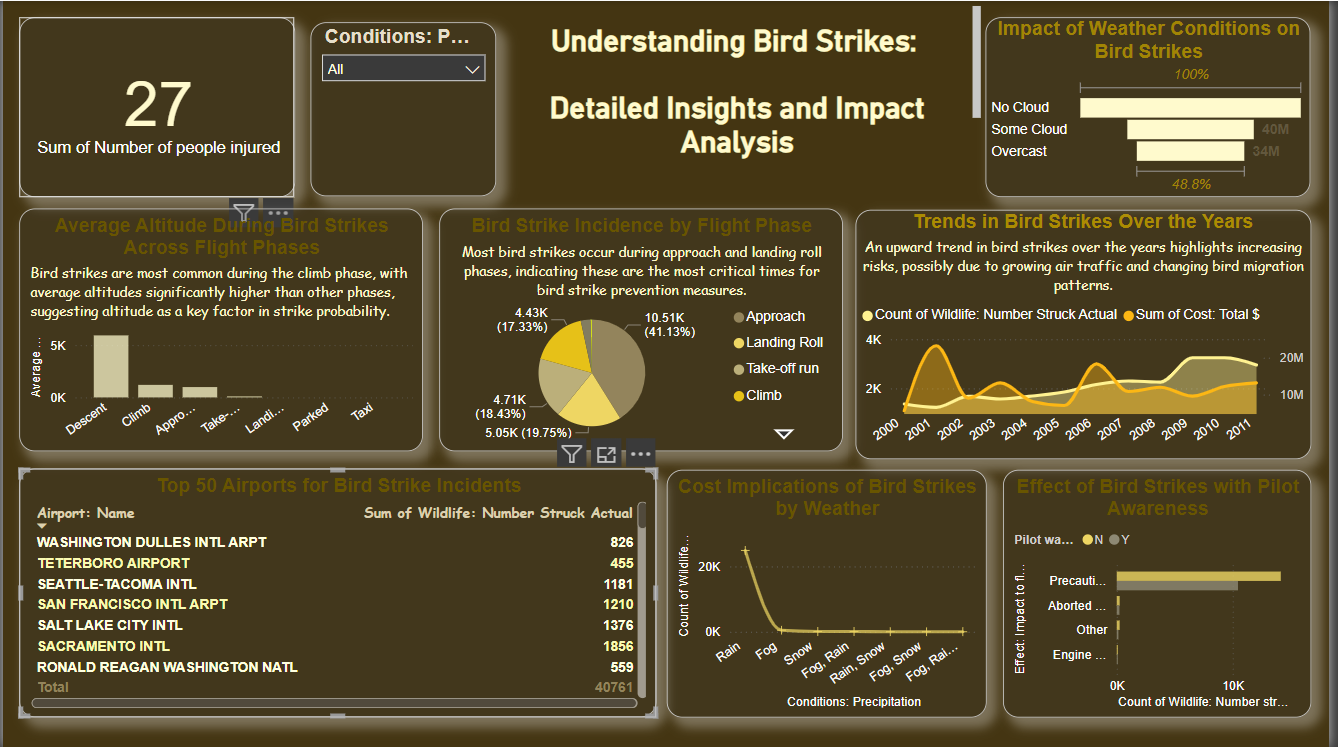

What the dashboard file says about the page in this screenshot:
{"tool":"powerbi","page":{"name":"Page 2","canvas":[1280,720],"ordinal":1},"visuals":[{"type":"card","fields":{"Values":["Sum(Sheet1.Number of people injured)"]},"box":[15.1,15.1,266.5,173.9],"z":0},{"type":"tableEx","title":"Top 50 Airports for Bird Strike Incidents","fields":{"Values":["Sheet1.Airport: Name","Sum(Sheet1.Wildlife: Number Struck Actual)"]},"box":[15.1,451.7,625.5,240],"z":1000},{"type":"pieChart","title":"Bird Strike Incidence by Flight Phase","fields":{"Y":["CountNonNull(Sheet1.Wildlife: Number Struck Actual)"],"Category":["Sheet1.When: Phase of flight"]},"box":[421.4,200.3,389.3,234.3],"z":2000},{"type":"lineChart","title":"Trends in Bird Strikes Over the Years","fields":{"Category":["Sheet1.FlightDate.Variation.Date Hierarchy.Year"],"Y":["CountNonNull(Sheet1.Wildlife: Number Struck Actual)"],"Y2":["Sum(Sheet1.Cost: Total $)"]},"box":[822.7,200.9,439.9,240.5],"z":3000},{"type":"lineChart","title":"Cost Implications of Bird Strikes by Weather","fields":{"Y":["CountNonNull(Sheet1.Wildlife: Number Struck Actual)"],"Category":["Sheet1.Conditions: Precipitation"]},"box":[640.8,452.5,308.5,238.9],"z":4000},{"type":"columnChart","title":"Average Altitude During Bird Strikes Across Flight Phases","fields":{"Y":["Avg(Sheet1.Feet above ground)"],"Category":["Sheet1.When: Phase of flight"]},"box":[15.1,200.3,389.3,234.3],"z":5000},{"type":"clusteredBarChart","title":"Effect of Bird Strikes with Pilot Awareness","fields":{"Category":["Sheet1.Effect: Impact to flight"],"Y":["CountNonNull(Sheet1.Wildlife: Number struck)"],"Series":["Sheet1.Pilot warned of birds or wildlife?"]},"box":[965.1,452.5,297.5,238.9],"z":6000},{"type":"slicer","fields":{"Values":["Sheet1.Conditions: Precipitation"]},"box":[296.7,20.8,179.5,168.2],"z":7000},{"type":"funnel","title":"Impact of Weather Conditions on Bird Strikes","fields":{"Category":["Sheet1.Conditions: Sky"],"Y":["Sum(Sheet1.Cost: Total $)"]},"box":[948.7,15.1,313.7,173.9],"z":8000},{"type":"textbox","box":[476.2,0,472.4,172],"z":9000}]}

Visuals, with their boxes in screenshot pixels (x1, y1, x2, y2), scaled from the page's 1280x720 canvas onto the 1338x747 screenshot:
card - Sum(Sheet1.Number of people injured): 16 16 294 196
"Top 50 Airports for Bird Strike Incidents" tableEx: 16 469 670 718
"Bird Strike Incidence by Flight Phase" pieChart: 440 208 847 451
"Trends in Bird Strikes Over the Years" lineChart: 860 208 1320 458
"Cost Implications of Bird Strikes by Weather" lineChart: 670 469 992 717
"Average Altitude During Bird Strikes Across Flight Phases" columnChart: 16 208 423 451
"Effect of Bird Strikes with Pilot Awareness" clusteredBarChart: 1009 469 1320 717
slicer - Sheet1.Conditions: Precipitation: 310 22 498 196
"Impact of Weather Conditions on Bird Strikes" funnel: 992 16 1320 196
textbox: 498 0 992 178
